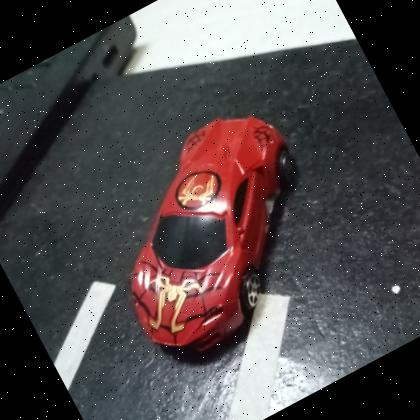Car: (66, 90, 360, 378)
